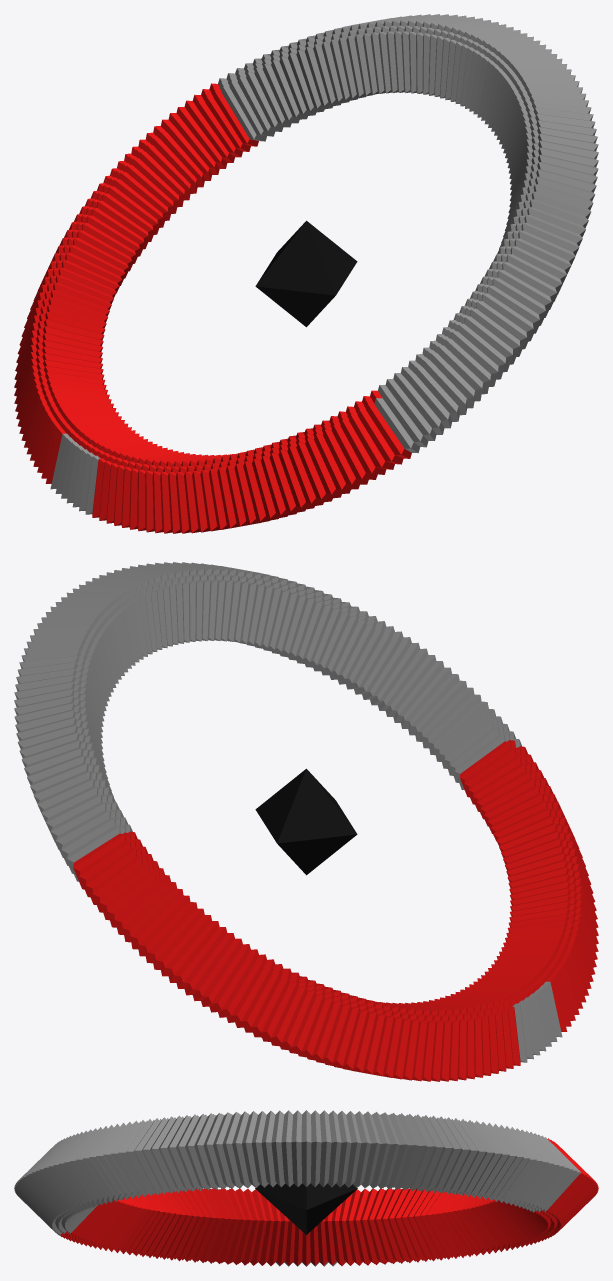
The model's file is local_feasible_centers.obj.
3 renders of one model, top to bottom at view 1: azimuth 30°, elevation 25°; view 2: azimuth 150°, elevation 25°; view 3: azimuth 270°, elevation 25°, orthographic. The views are drawn at different scales.
Parts seen in each view (by area): view 1: rejected_candidates, feasible_candidates, target_point_000122; view 2: feasible_candidates, rejected_candidates, target_point_000122; view 3: rejected_candidates, feasible_candidates, target_point_000122.
Part boxes in pixels (x1,y1,x2,y2): rejected_candidates: (50, 14, 598, 514); feasible_candidates: (14, 83, 411, 533); target_point_000122: (255, 220, 357, 327); feasible_candidates: (73, 740, 598, 1081); rejected_candidates: (14, 562, 562, 1062); target_point_000122: (255, 768, 357, 875); rejected_candidates: (14, 1110, 580, 1266); feasible_candidates: (60, 1138, 598, 1265); target_point_000122: (255, 1183, 357, 1234).
Bounding box in the file's own units: 0.038 × 0.0275 × 0.046.
